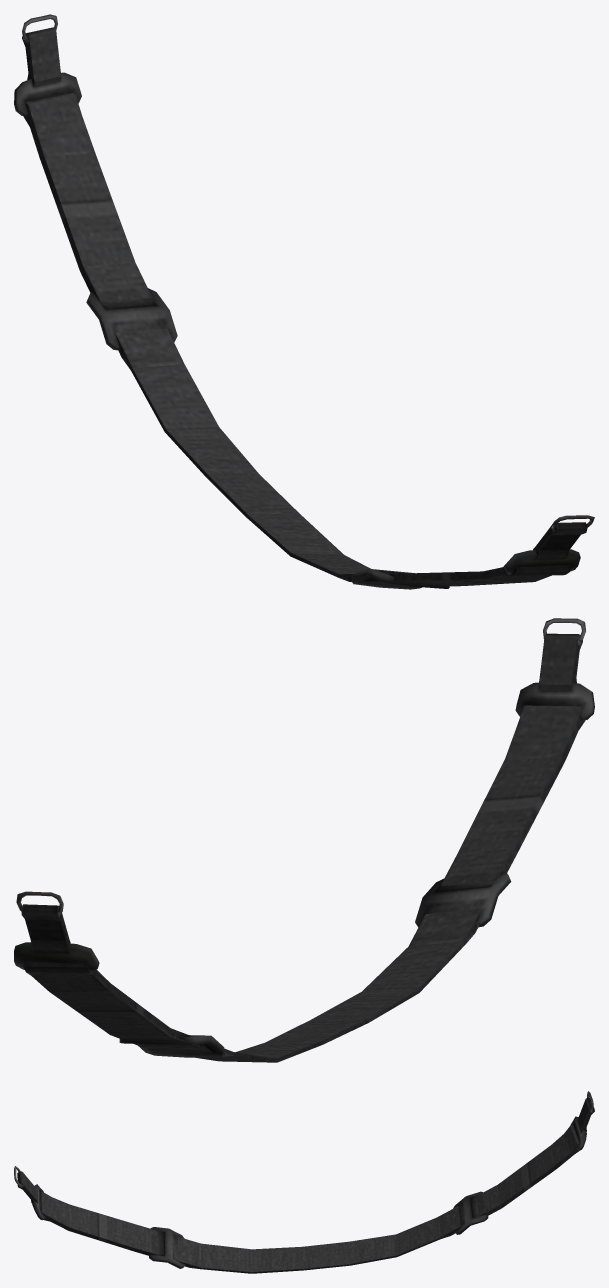
Rendered from Sling.fbx.
3 views of the same model, one above another, from view 1: azimuth 30°, elevation 25°; view 2: azimuth 150°, elevation 25°; view 3: azimuth 270°, elevation 25° (orthographic). The views are drawn at different scales.
Parts seen in each view (by area): view 1: Sling_LP.002; view 2: Sling_LP.002; view 3: Sling_LP.002.
Boxes of the visible parts, x1=… form: Sling_LP.002: x1=14, y1=14, x2=594, y2=589; Sling_LP.002: x1=14, y1=618, x2=594, y2=1062; Sling_LP.002: x1=14, y1=1091, x2=594, y2=1273.
Bounding box in the file's own units: 0.0519 × 0.4677 × 0.159.
